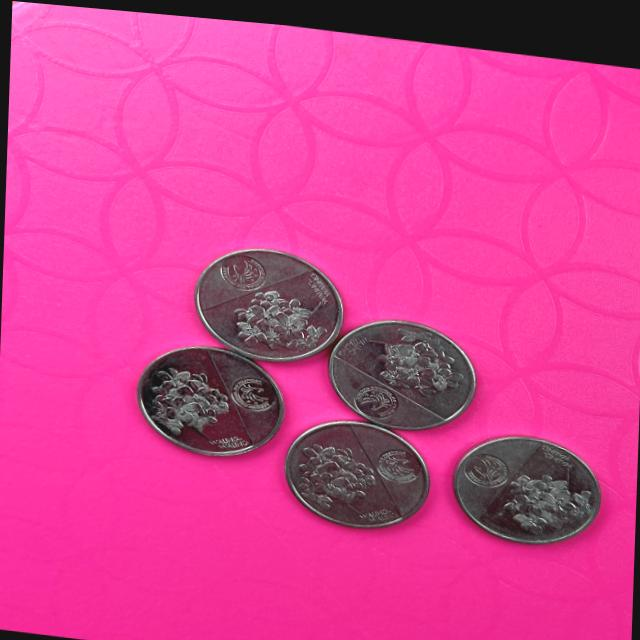1_New_Back: (356, 306, 452, 396), (220, 272, 327, 347), (138, 349, 232, 431), (500, 449, 600, 523), (292, 426, 378, 508)
